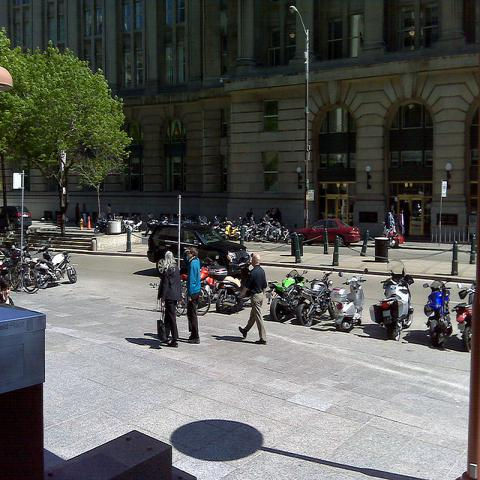car: (145, 224, 253, 282), (292, 218, 360, 246), (0, 205, 32, 231)
motorcycle: (368, 257, 416, 344), (212, 251, 253, 315), (292, 268, 336, 326), (332, 269, 370, 332), (269, 268, 308, 322), (424, 278, 452, 350), (34, 249, 78, 289), (451, 283, 476, 353), (200, 255, 229, 302), (260, 211, 273, 243), (381, 222, 397, 238), (390, 235, 400, 248)
